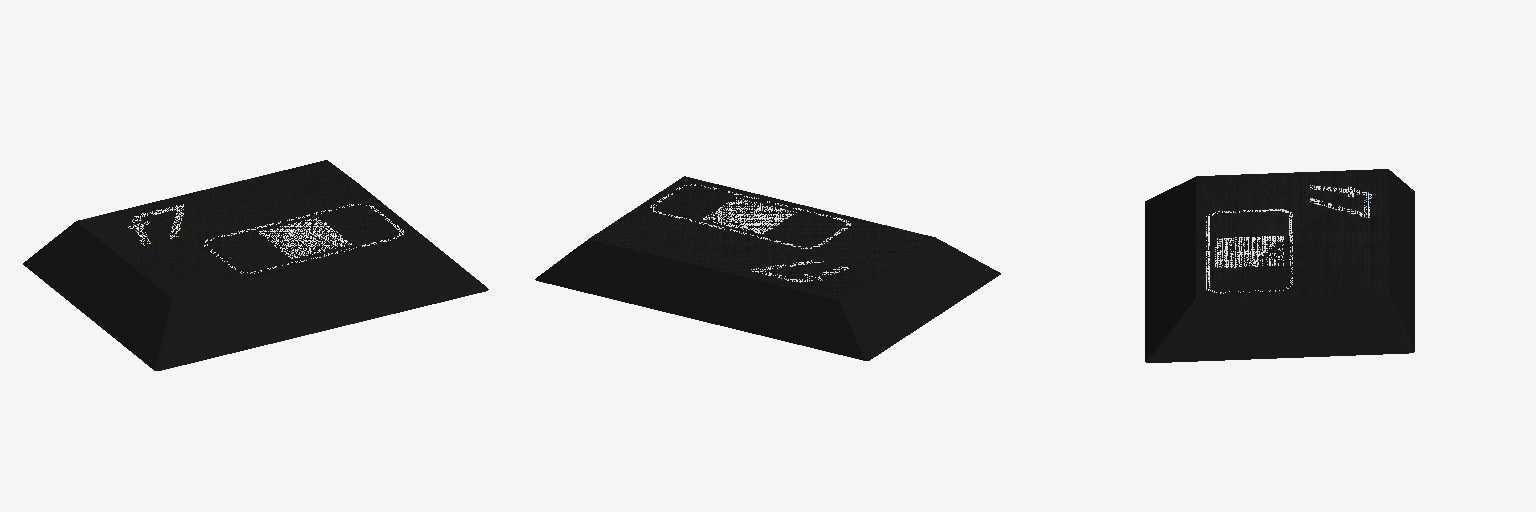
3 views of the same model, side by side, from view 1: azimuth 30°, elevation 25°; view 2: azimuth 150°, elevation 25°; view 3: azimuth 270°, elevation 25° (orthographic).
Visible parts, largest first — view 1: Group74/mesh70/mesh70-geometry#mesh70-geometry; view 2: Group74/mesh70/mesh70-geometry#mesh70-geometry; view 3: Group74/mesh70/mesh70-geometry#mesh70-geometry.
Boxes of the visible parts, x1,y1,x2,y2 form: Group74/mesh70/mesh70-geometry#mesh70-geometry: [23, 160, 488, 370]; Group74/mesh70/mesh70-geometry#mesh70-geometry: [535, 176, 1000, 360]; Group74/mesh70/mesh70-geometry#mesh70-geometry: [1145, 169, 1414, 362].
Size of the model in its own units: 0.0754 by 0.0111 by 0.0525.
Materials: 2 (1 with a texture image).